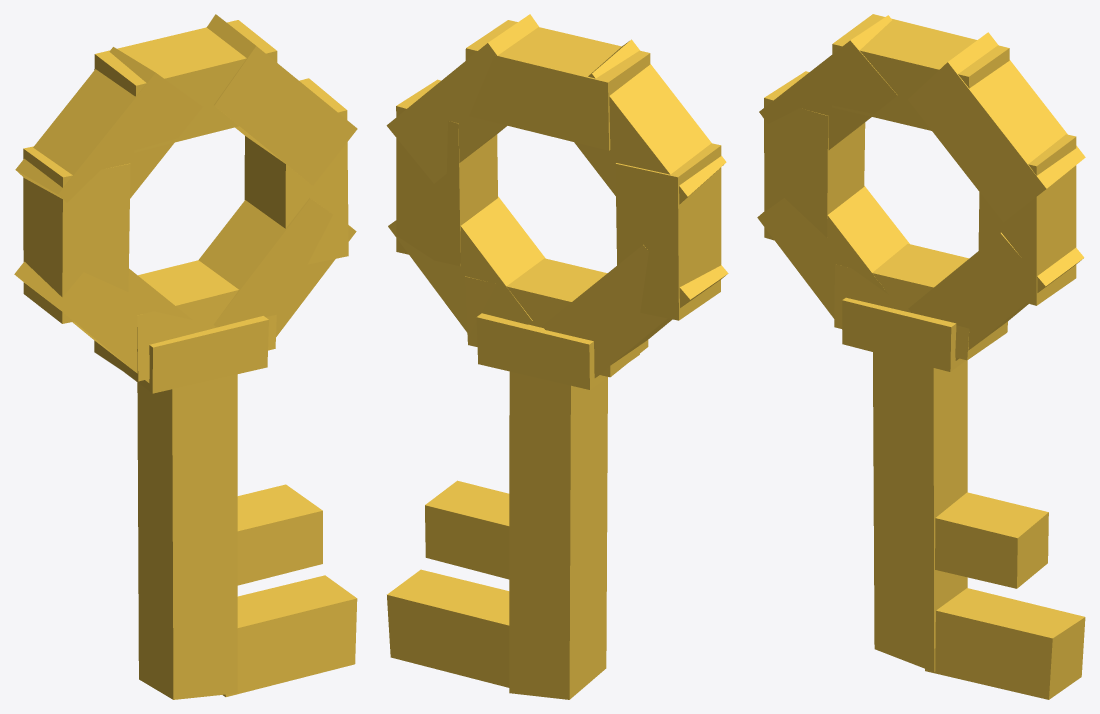
File: key.fbx
3 renders of one model, left to right at view 1: azimuth 30°, elevation 25°; view 2: azimuth 150°, elevation 25°; view 3: azimuth 330°, elevation 25°, orthographic. The views are drawn at different scales.
Parts seen in each view (by area): view 1: key; view 2: key; view 3: key.
Part boxes in pixels (box(x1,y1,x2,y2)): key: box(14, 14, 357, 699); key: box(386, 14, 728, 699); key: box(757, 14, 1085, 699).
Size of the model in its own units: 0.3759 by 0.7597 by 0.1075.
